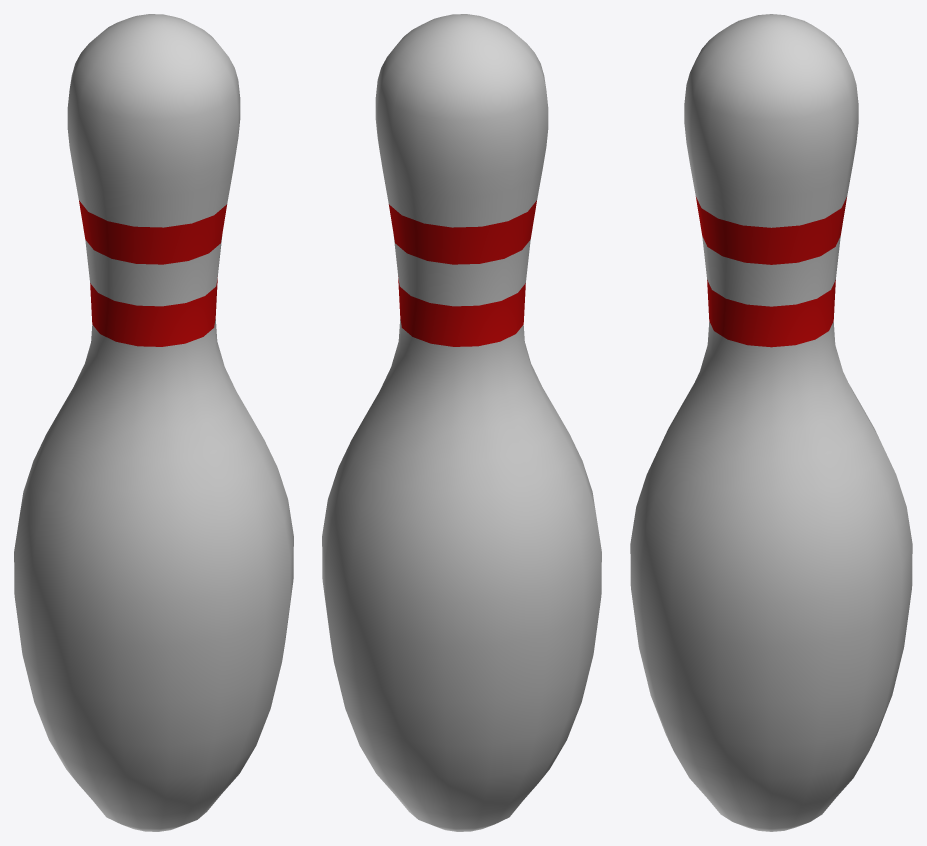
File: bowling_pin.fbx
The picture shows the model from 3 angles, left to right: view 1: azimuth 30°, elevation 25°; view 2: azimuth 150°, elevation 25°; view 3: azimuth 270°, elevation 25°; orthographic projection.
Parts seen in each view (by area): view 1: Pin .007; view 2: Pin .007; view 3: Pin .007.
Boxes of the visible parts, left/top/right/bottom form: Pin .007: left=14, top=14, right=293, bottom=831; Pin .007: left=322, top=14, right=601, bottom=831; Pin .007: left=630, top=14, right=912, bottom=831.
Bounding box in the file's own units: 12.19 × 38 × 12.19.
